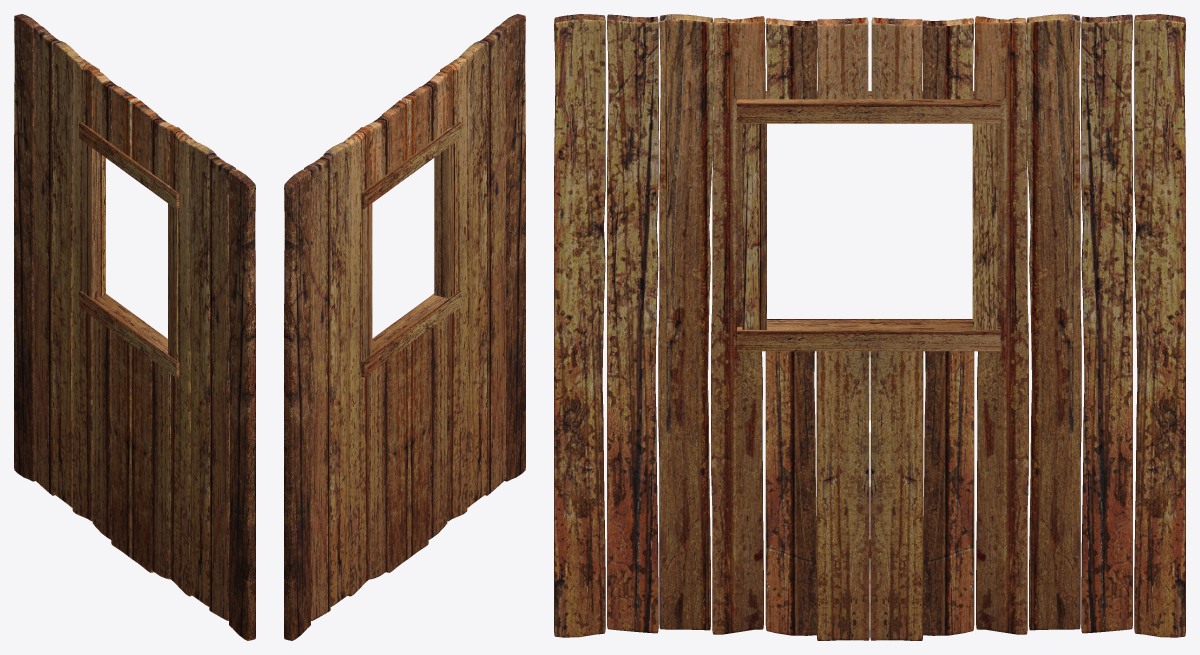
Rendered from 木栅栏01.FBX.
3 views of the same model, side by side, from view 1: azimuth 30°, elevation 25°; view 2: azimuth 150°, elevation 25°; view 3: azimuth 270°, elevation 25° (orthographic). The views are drawn at different scales.
Visible parts, largest first — view 1: wood:wood:polySurface10; view 2: wood:wood:polySurface10; view 3: wood:wood:polySurface10.
Part boxes in pixels (<box>): wood:wood:polySurface10: <box>14,14,255,640</box>; wood:wood:polySurface10: <box>284,14,525,640</box>; wood:wood:polySurface10: <box>554,14,1185,640</box>.
Size of the model in its own units: 3.59 by 79.54 by 86.54.
